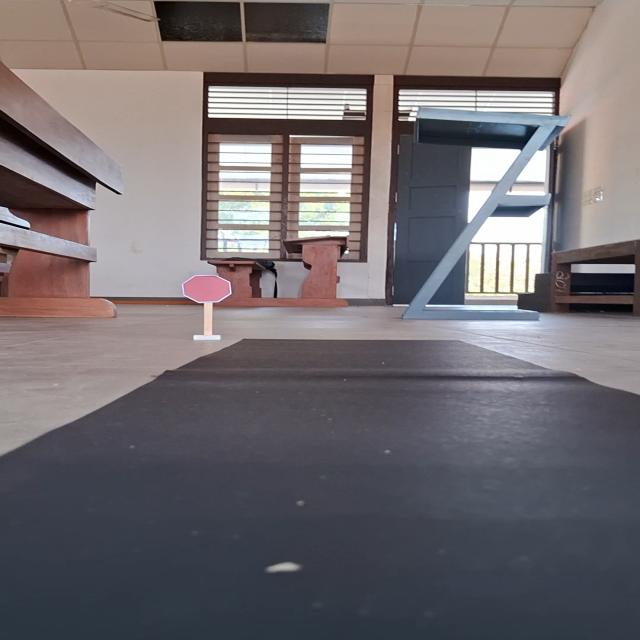Stop: (180, 274, 234, 303)
